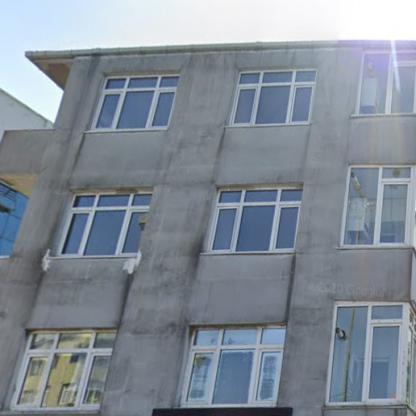window: (178, 326, 286, 404), (11, 330, 116, 408), (327, 304, 402, 402), (210, 187, 302, 250), (57, 193, 152, 254), (342, 167, 415, 245), (231, 70, 316, 124), (94, 76, 178, 129), (357, 52, 415, 114), (1, 184, 29, 256)
